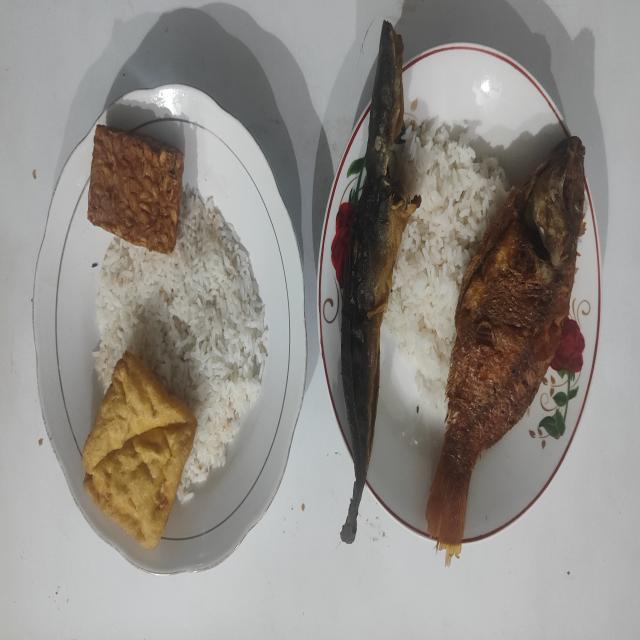ikan_mujair: (426, 137, 584, 565)
nasi_putih: (94, 184, 268, 500), (382, 114, 509, 409)
tahu_goreng: (82, 351, 197, 549)
tempe_goreng: (88, 124, 184, 253)
